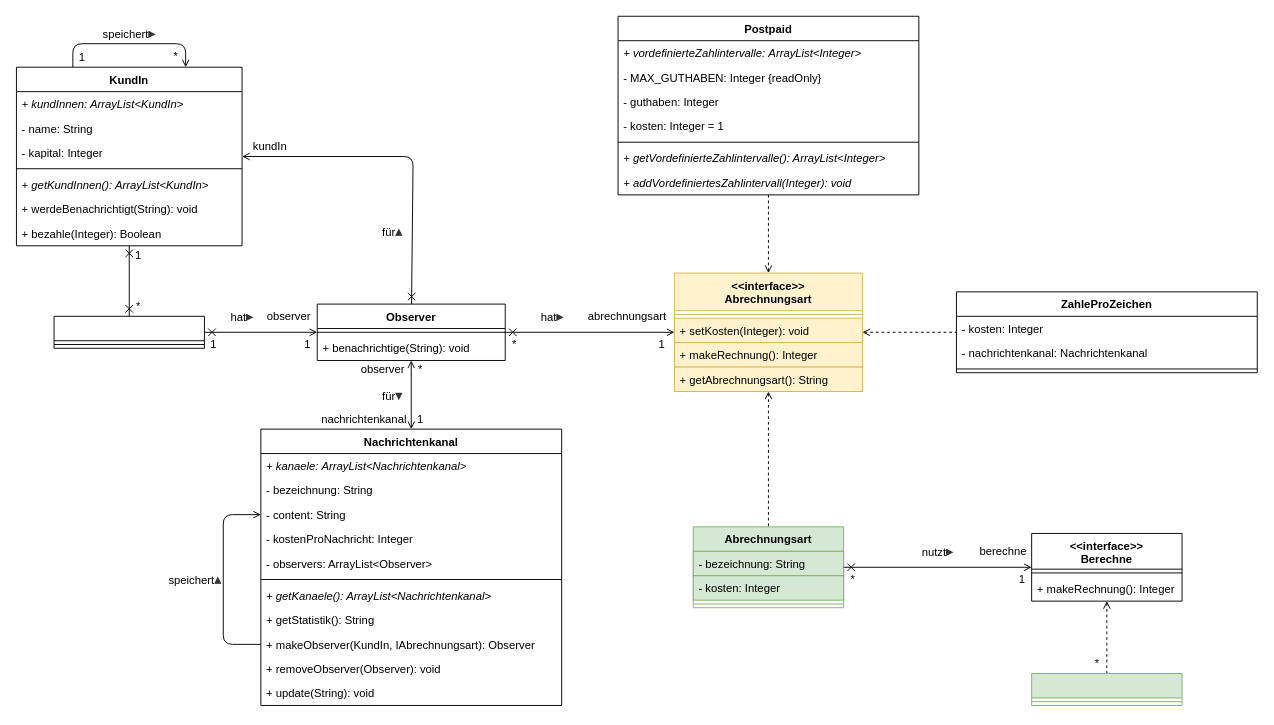
This 1274x725 diagram has some shape labels left out. The centre of each missing label's shape, as x and y in pixels:
Abonnement: pixel 128 331
Lambda: pixel 1106 689
